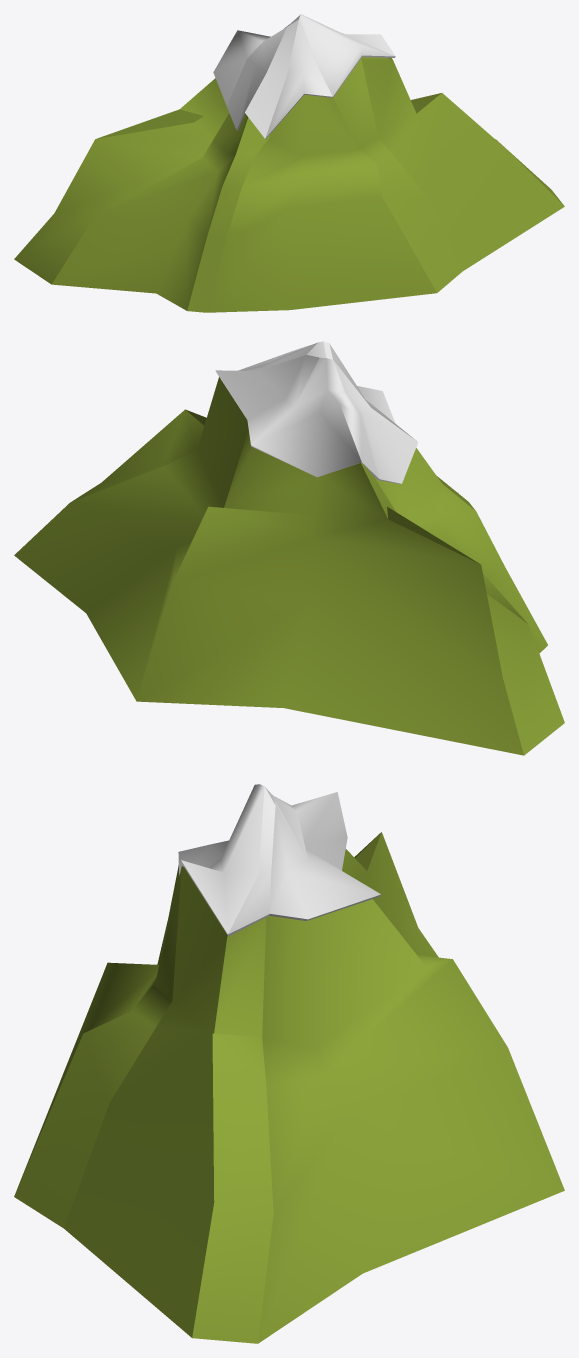
The model's file is montagne2Neige.fbx.
The picture shows the model from 3 angles, top to bottom: view 1: azimuth 30°, elevation 25°; view 2: azimuth 150°, elevation 25°; view 3: azimuth 270°, elevation 25°; orthographic projection. The views are drawn at different scales.
Parts seen in each view (by area): view 1: polySurface4; view 2: polySurface4; view 3: polySurface4.
Boxes of the visible parts, left/top/right/bottom form: polySurface4: left=14, top=14, right=564, bottom=312; polySurface4: left=14, top=341, right=564, bottom=755; polySurface4: left=14, top=784, right=564, bottom=1343.
Size of the model in its own units: 7110 by 3364 by 4556.
